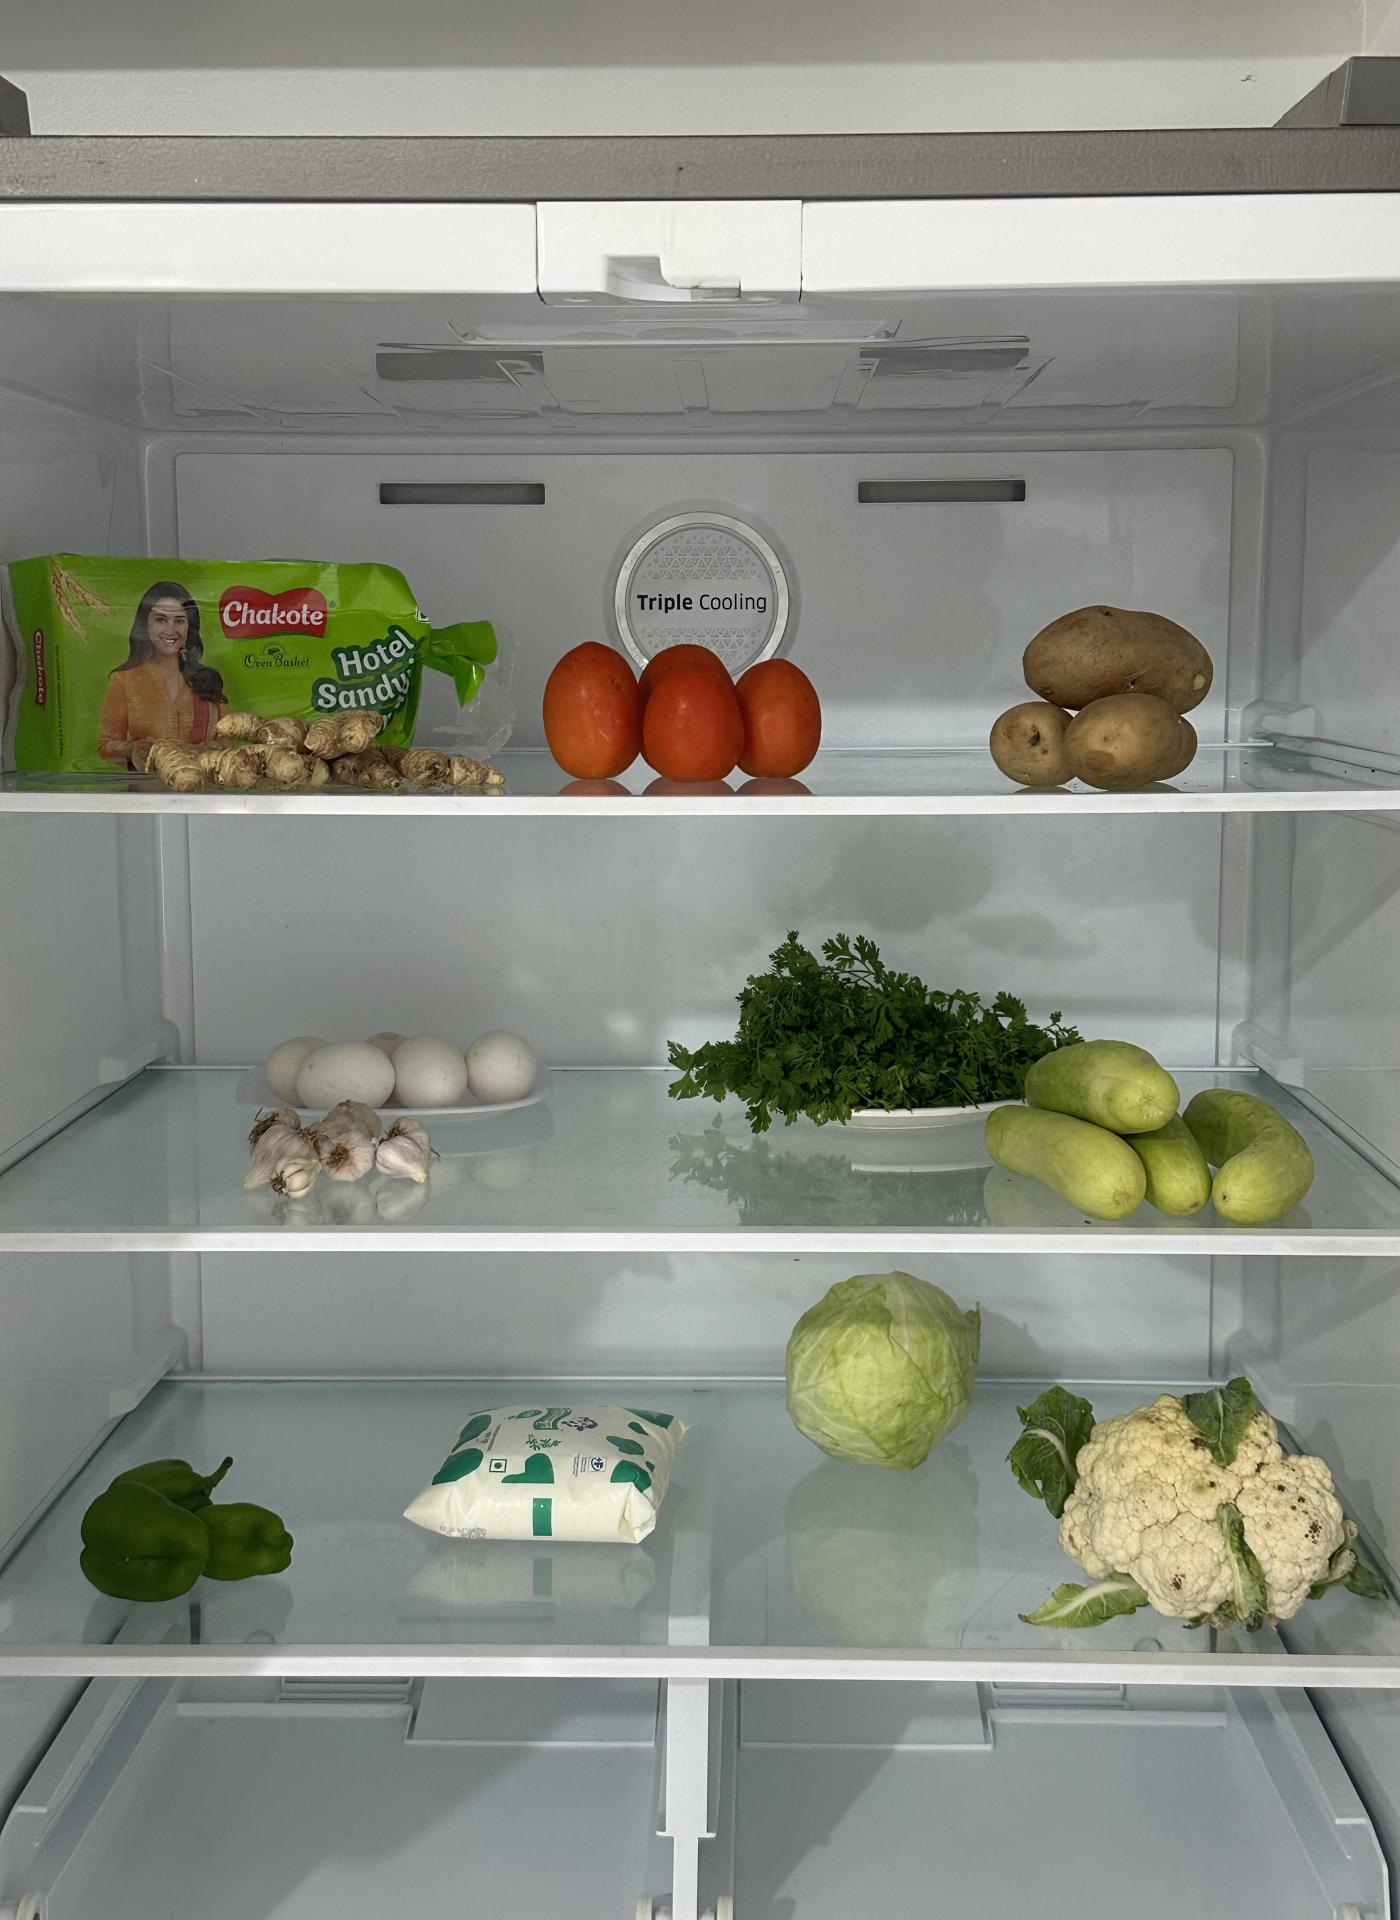bread: (6, 538, 423, 724)
cabbage: (781, 1267, 980, 1456)
capsicum: (81, 1455, 291, 1598)
cauliflower: (1042, 1382, 1364, 1625)
coriander: (684, 932, 996, 1120)
cucumber: (993, 1038, 1308, 1221)
egg: (256, 1023, 537, 1105)
garlic: (239, 1106, 440, 1206)
ginger: (136, 701, 499, 796)
milk: (403, 1397, 689, 1546)
potato: (990, 607, 1218, 789)
tomato: (538, 638, 823, 783)
